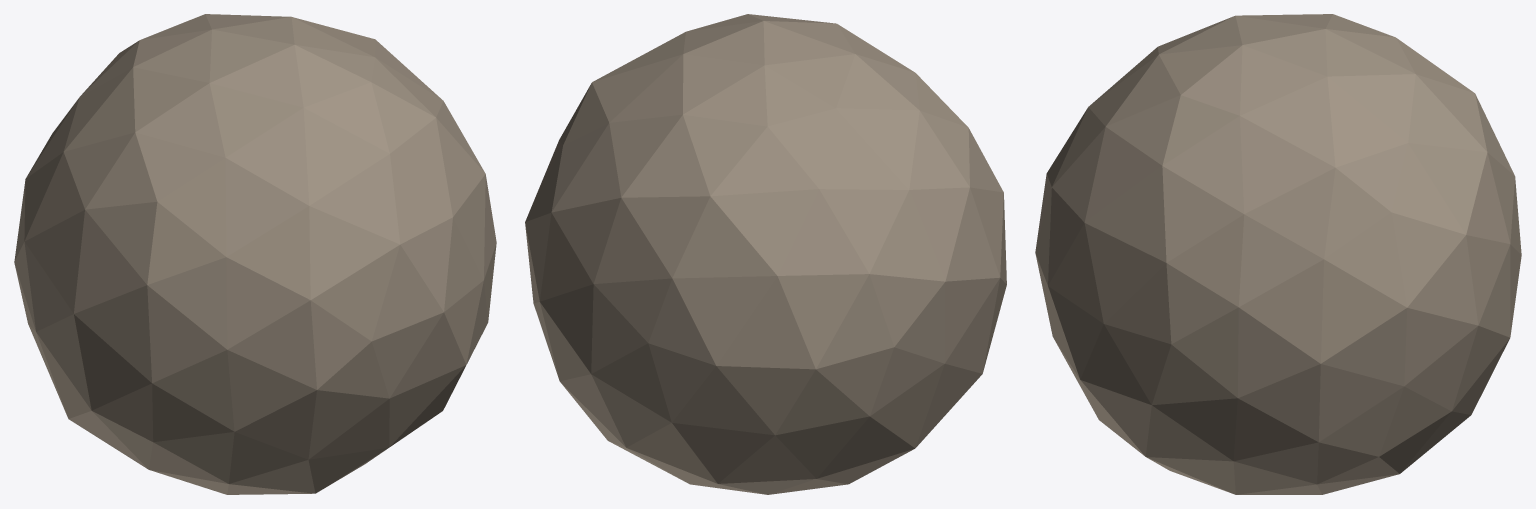
The model's file is boulderTrap.fbx.
The picture shows the model from 3 angles, left to right: view 1: azimuth 30°, elevation 25°; view 2: azimuth 150°, elevation 25°; view 3: azimuth 270°, elevation 25°; orthographic projection.
Visible parts, largest first — view 1: geo; view 2: geo; view 3: geo.
Boxes of the visible parts, x1,y1,x2,y2 form: geo: (14,14,496,494); geo: (525,14,1006,494); geo: (1035,14,1521,494).
Bounding box in the file's own units: 5.3 × 5.34 × 5.3.
Materials: 1 (1 with a texture image).
